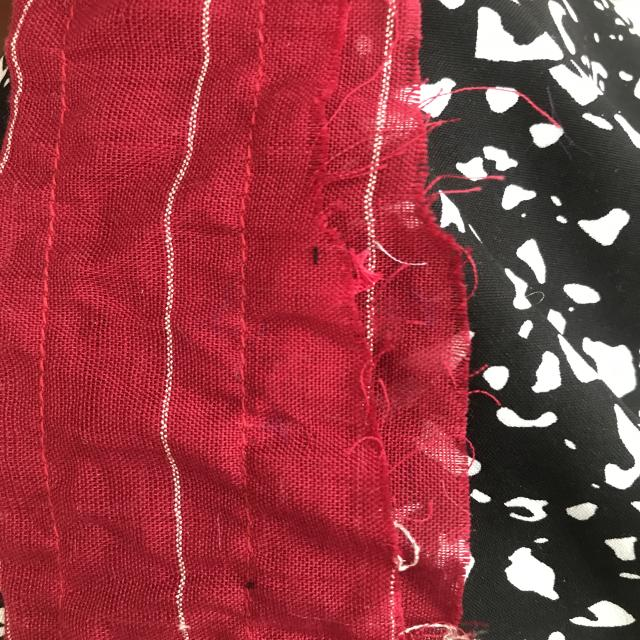good: (31, 326, 66, 514), (228, 219, 264, 389), (36, 145, 66, 286)
